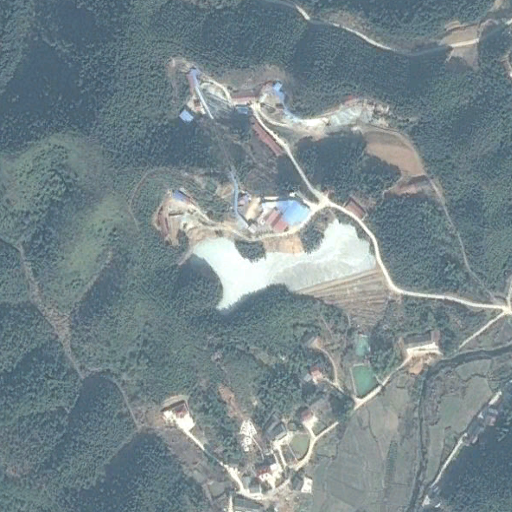tp: (187, 218, 389, 334)
